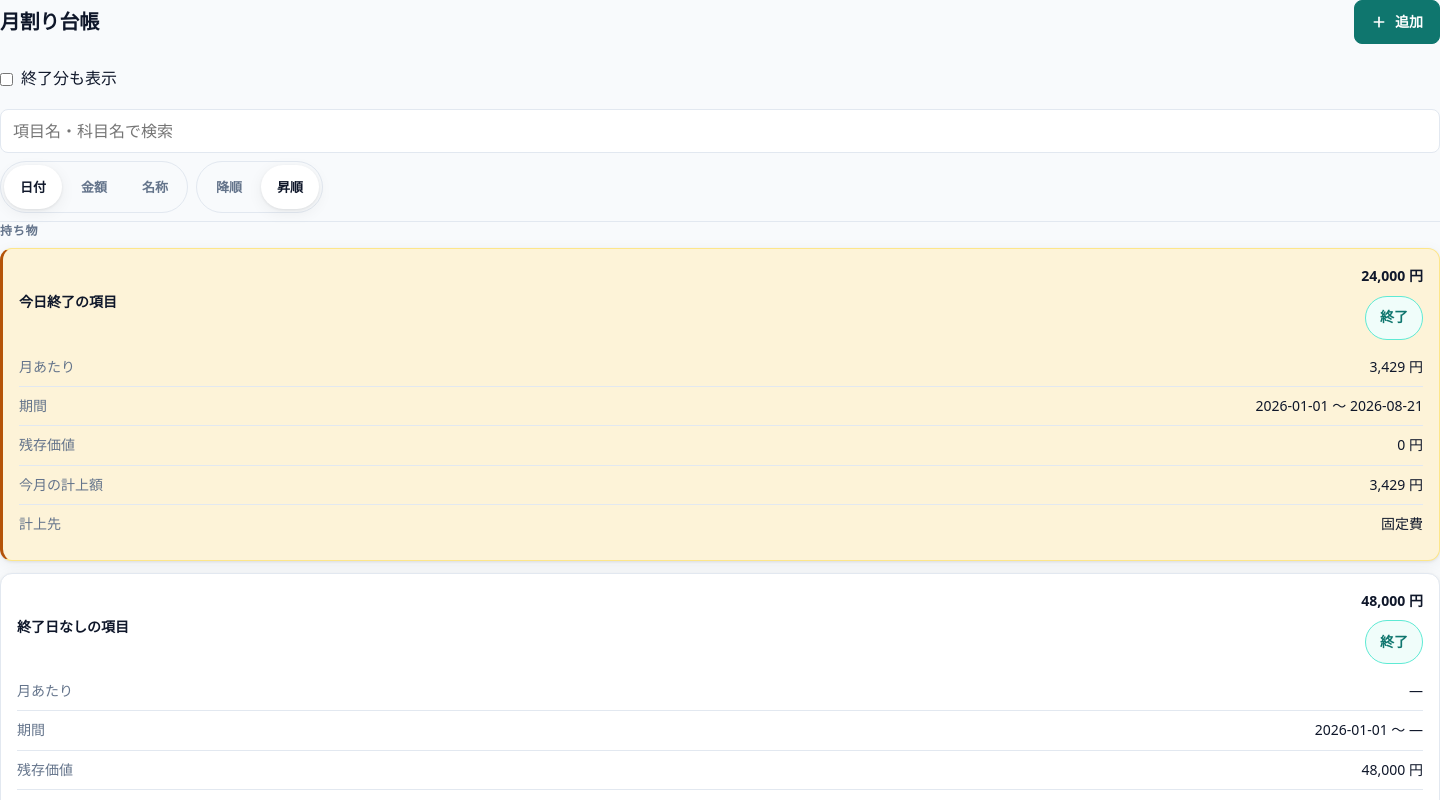
Test case: 追補監査の画面回帰 › 終了日を過ぎた項目は一覧から消え、「終了分も表示」で戻る（アーカイブは導出）
expect the text "終了済み項目" is not shown: met
expect the text "今日終了の項目" is shown: met, box left=19, top=291, right=117, bottom=314
Click the checkbox labelled "終了分も表示" at coordinates (6, 79), box left=0, top=72, right=13, bottom=86
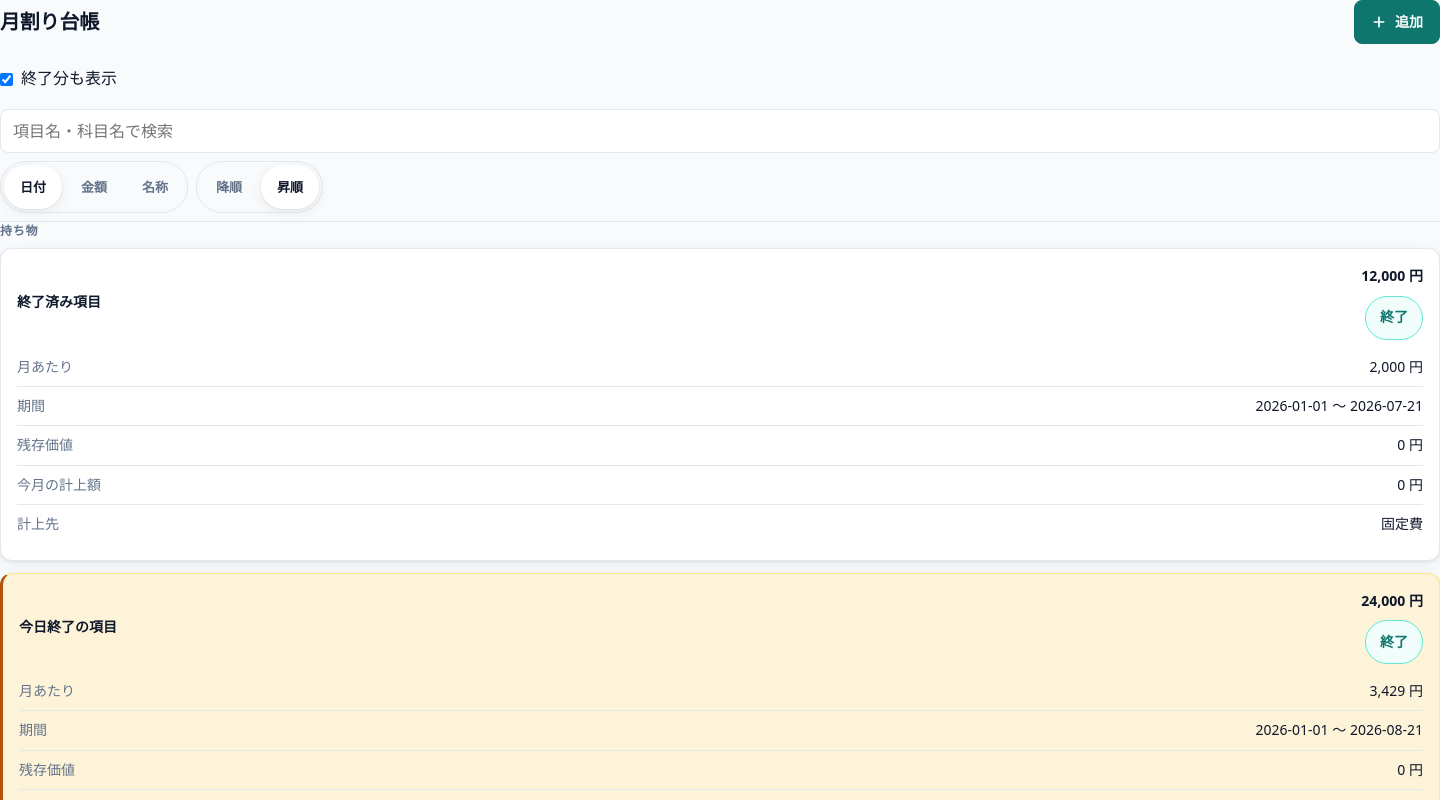
expect the text "終了済み項目" is shown: met, box left=17, top=291, right=101, bottom=314
